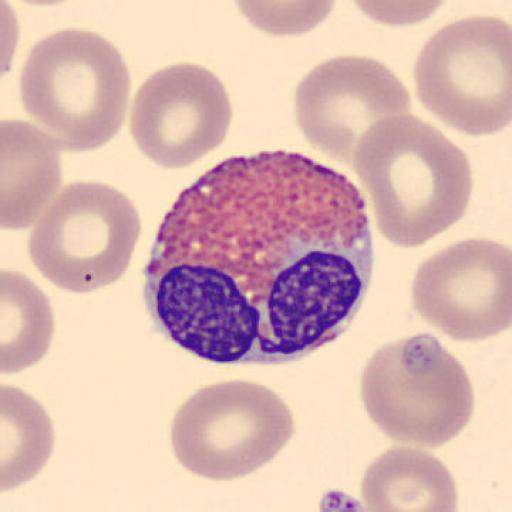Platelet: (315, 485, 372, 512)
RBC: (352, 112, 474, 250), (18, 26, 132, 153), (293, 53, 412, 173), (357, 331, 476, 448), (168, 377, 297, 483), (27, 179, 142, 295), (411, 13, 512, 138), (128, 60, 233, 171), (410, 237, 512, 344), (2, 118, 63, 232), (360, 444, 459, 512), (2, 382, 56, 495), (2, 267, 56, 375), (230, 0, 338, 38), (348, 0, 450, 28), (0, 0, 21, 80), (0, 0, 84, 6)
WBC: (142, 156, 374, 367), (145, 240, 376, 370)
